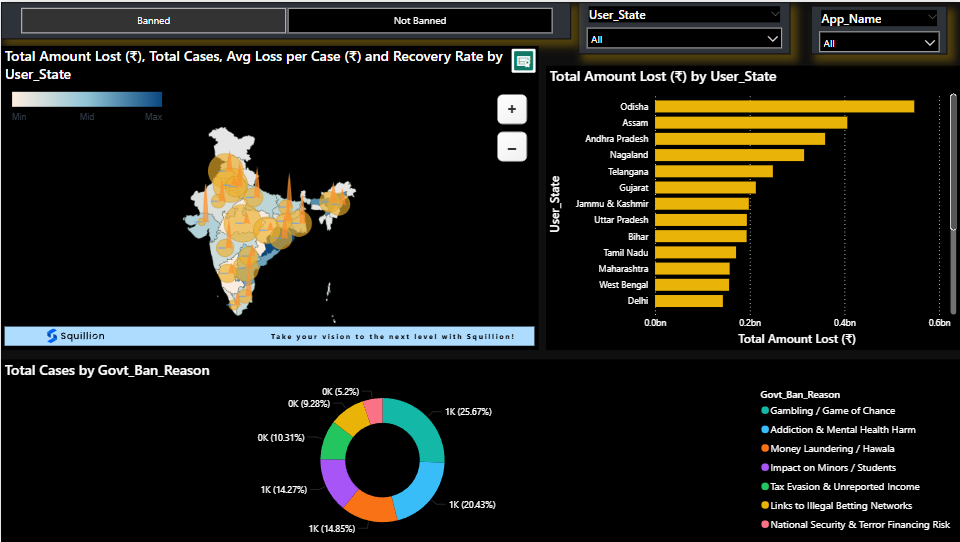

Layout of this report page (visuals, bound fields, positions):
{"tool":"powerbi","page":{"name":"Geo & Regulation ","canvas":[1280,720],"ordinal":2},"visuals":[{"type":"slicer","fields":{"Values":["Scam_Facts.User_State"]},"box":[769.7,0,282.3,70],"z":0},{"type":"slicer","fields":{"Values":["Scam_Facts.Ban_Status"]},"box":[0,0,760.1,49.5],"z":1000},{"type":"MapBySquillion","fields":{"category":["Scam_Facts.User_State"],"value":["Scam_Facts.Total Amount Lost (₹)"],"compare":["Scam_Facts.Total Cases","Scam_Facts.Avg Loss per Case (₹)"],"bubble":["Scam_Facts.Recovery Rate"]},"box":[0,59.1,716.6,405.4],"z":2000},{"type":"clusteredBarChart","fields":{"Category":["Scam_Facts.User_State"],"Y":["Scam_Facts.Total Amount Lost (₹)"]},"box":[727.2,85.1,552.6,379.4],"z":3000},{"type":"donutChart","fields":{"Y":["Scam_Facts.Total Cases"],"Category":["Scam_Facts.Govt_Ban_Reason"]},"box":[0,476.1,1279.7,243.8],"z":4000},{"type":"slicer","fields":{"Values":["Scam_Facts.App_Name"]},"box":[1080.6,4.3,181.8,64.9],"z":5000}]}

Visuals, with their boxes in screenshot pixels (x1, y1, x2, y2), scaled from the page's 1280x720 canvas onto the 960x542 screenshot:
slicer - Scam_Facts.User_State: (577, 0, 789, 53)
slicer - Scam_Facts.Ban_Status: (0, 0, 570, 37)
MapBySquillion - Scam_Facts.User_State x Scam_Facts.Total Amount Lost (₹): (0, 44, 537, 350)
clusteredBarChart - Scam_Facts.User_State x Scam_Facts.Total Amount Lost (₹): (545, 64, 959, 350)
donutChart - Scam_Facts.Total Cases x Scam_Facts.Govt_Ban_Reason: (0, 358, 959, 541)
slicer - Scam_Facts.App_Name: (810, 3, 947, 52)
